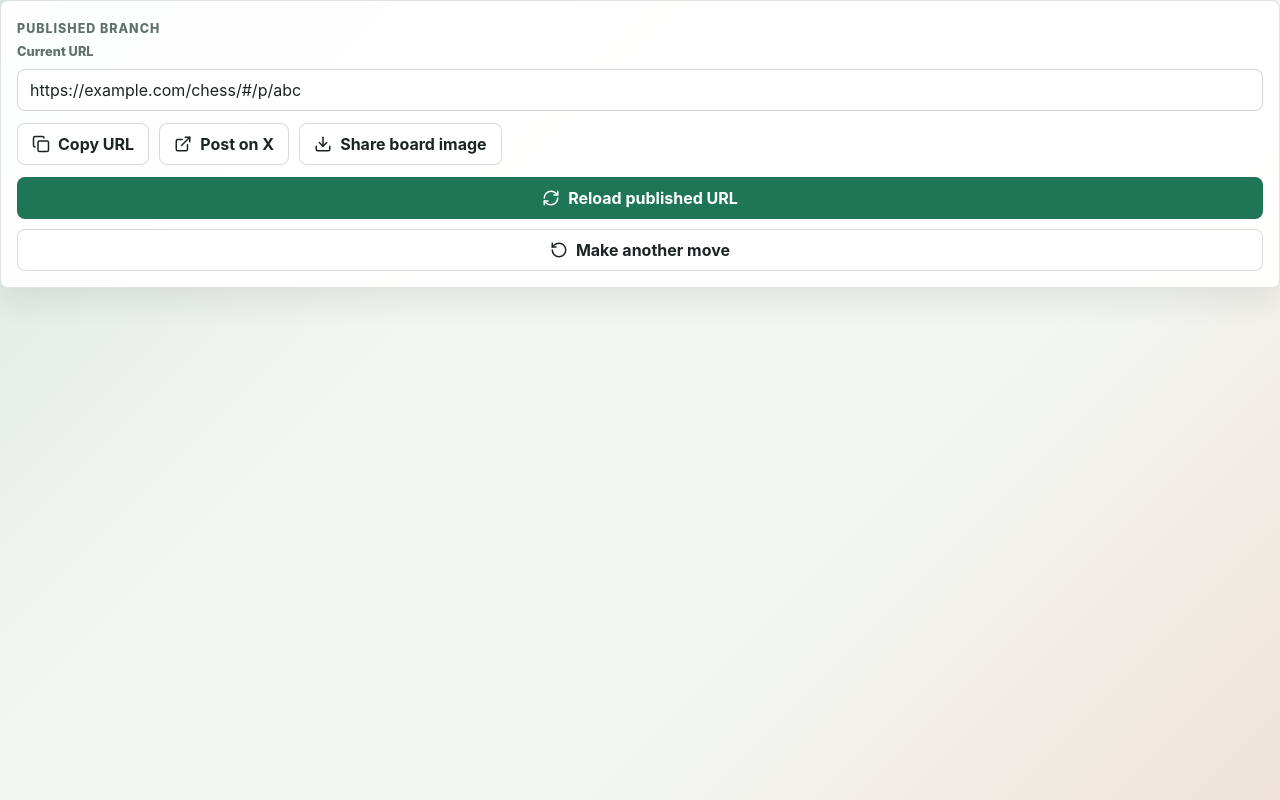
Test: SharePanel › shares or downloads a board image from the published position
Click the button "Share board image" at (400, 144), box [299, 123, 502, 165]
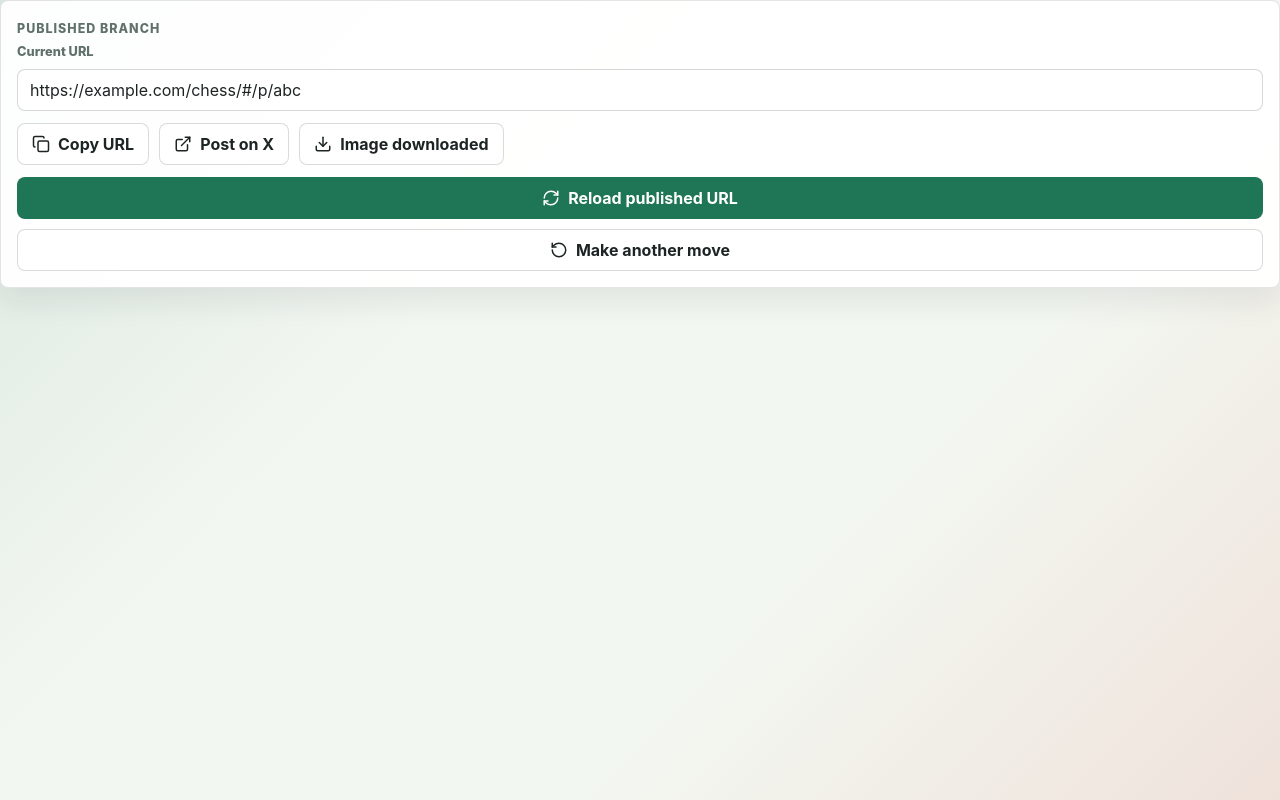
Result: the button "Image downloaded" is shown at [299, 123, 504, 165]
